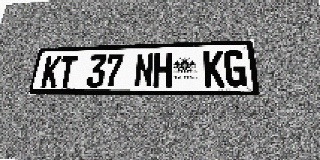3: (86, 54, 107, 87)
7: (103, 54, 124, 87)
G: (224, 50, 247, 87)
H: (153, 52, 173, 87)
K: (203, 51, 225, 87), (40, 56, 62, 88)
N: (134, 53, 154, 87)
T: (57, 55, 78, 88)
